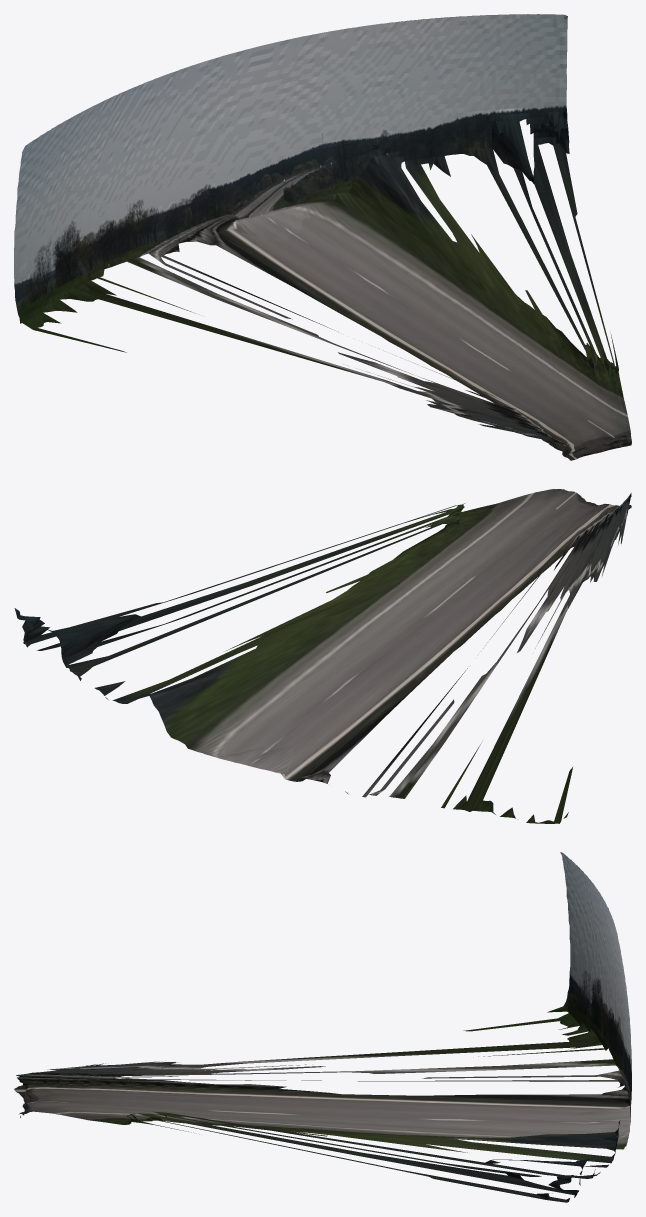
3 renders of one model, top to bottom at view 1: azimuth 30°, elevation 25°; view 2: azimuth 150°, elevation 25°; view 3: azimuth 270°, elevation 25°, orthographic. The views are drawn at different scales.
Visible parts, largest first — view 1: defaultobject; view 2: defaultobject; view 3: defaultobject.
Part boxes in pixels (bbox=[...]): defaultobject: bbox=[14, 14, 631, 460]; defaultobject: bbox=[14, 489, 631, 823]; defaultobject: bbox=[14, 852, 631, 1202].
Size of the model in its own units: 41.12 by 13.91 by 44.73.
1 material, 1 textured.
